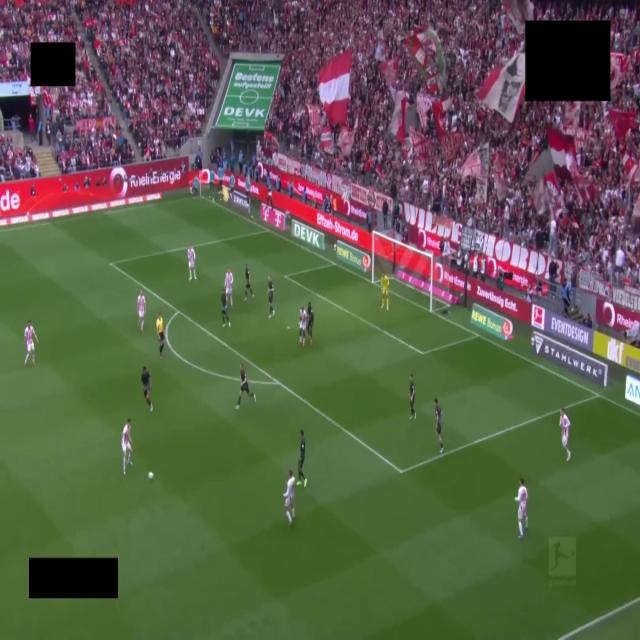ball: (148, 472, 153, 479)
player: (236, 364, 255, 409), (515, 479, 528, 539), (24, 320, 38, 366), (284, 470, 295, 526), (297, 429, 307, 487), (122, 419, 132, 474), (560, 408, 570, 461), (434, 399, 443, 453), (141, 367, 152, 411), (137, 290, 146, 331), (221, 288, 230, 327), (267, 276, 275, 318), (299, 306, 307, 346), (187, 246, 196, 280), (381, 272, 389, 310), (225, 270, 233, 307), (245, 264, 253, 301), (409, 374, 415, 419), (307, 302, 313, 345)
referee: (156, 313, 166, 359)
